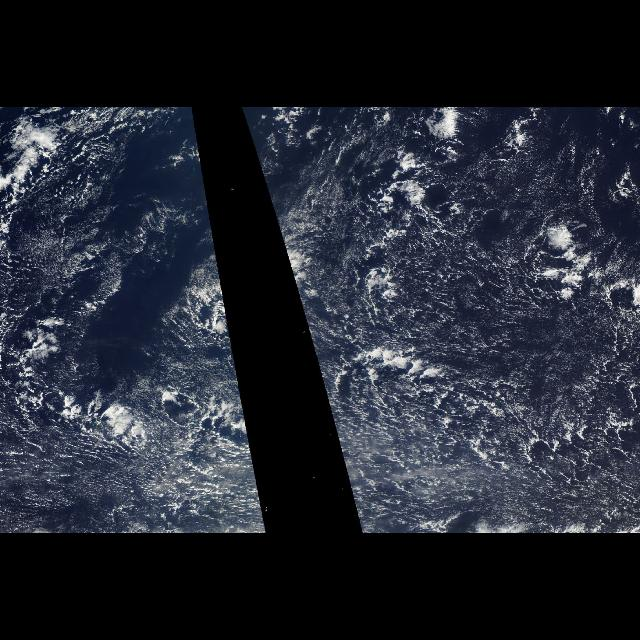Gravel: (302, 148, 640, 520), (8, 320, 255, 474), (4, 108, 166, 235)
Sugar: (10, 418, 268, 516), (463, 290, 622, 420), (383, 478, 637, 532), (476, 114, 606, 213)
